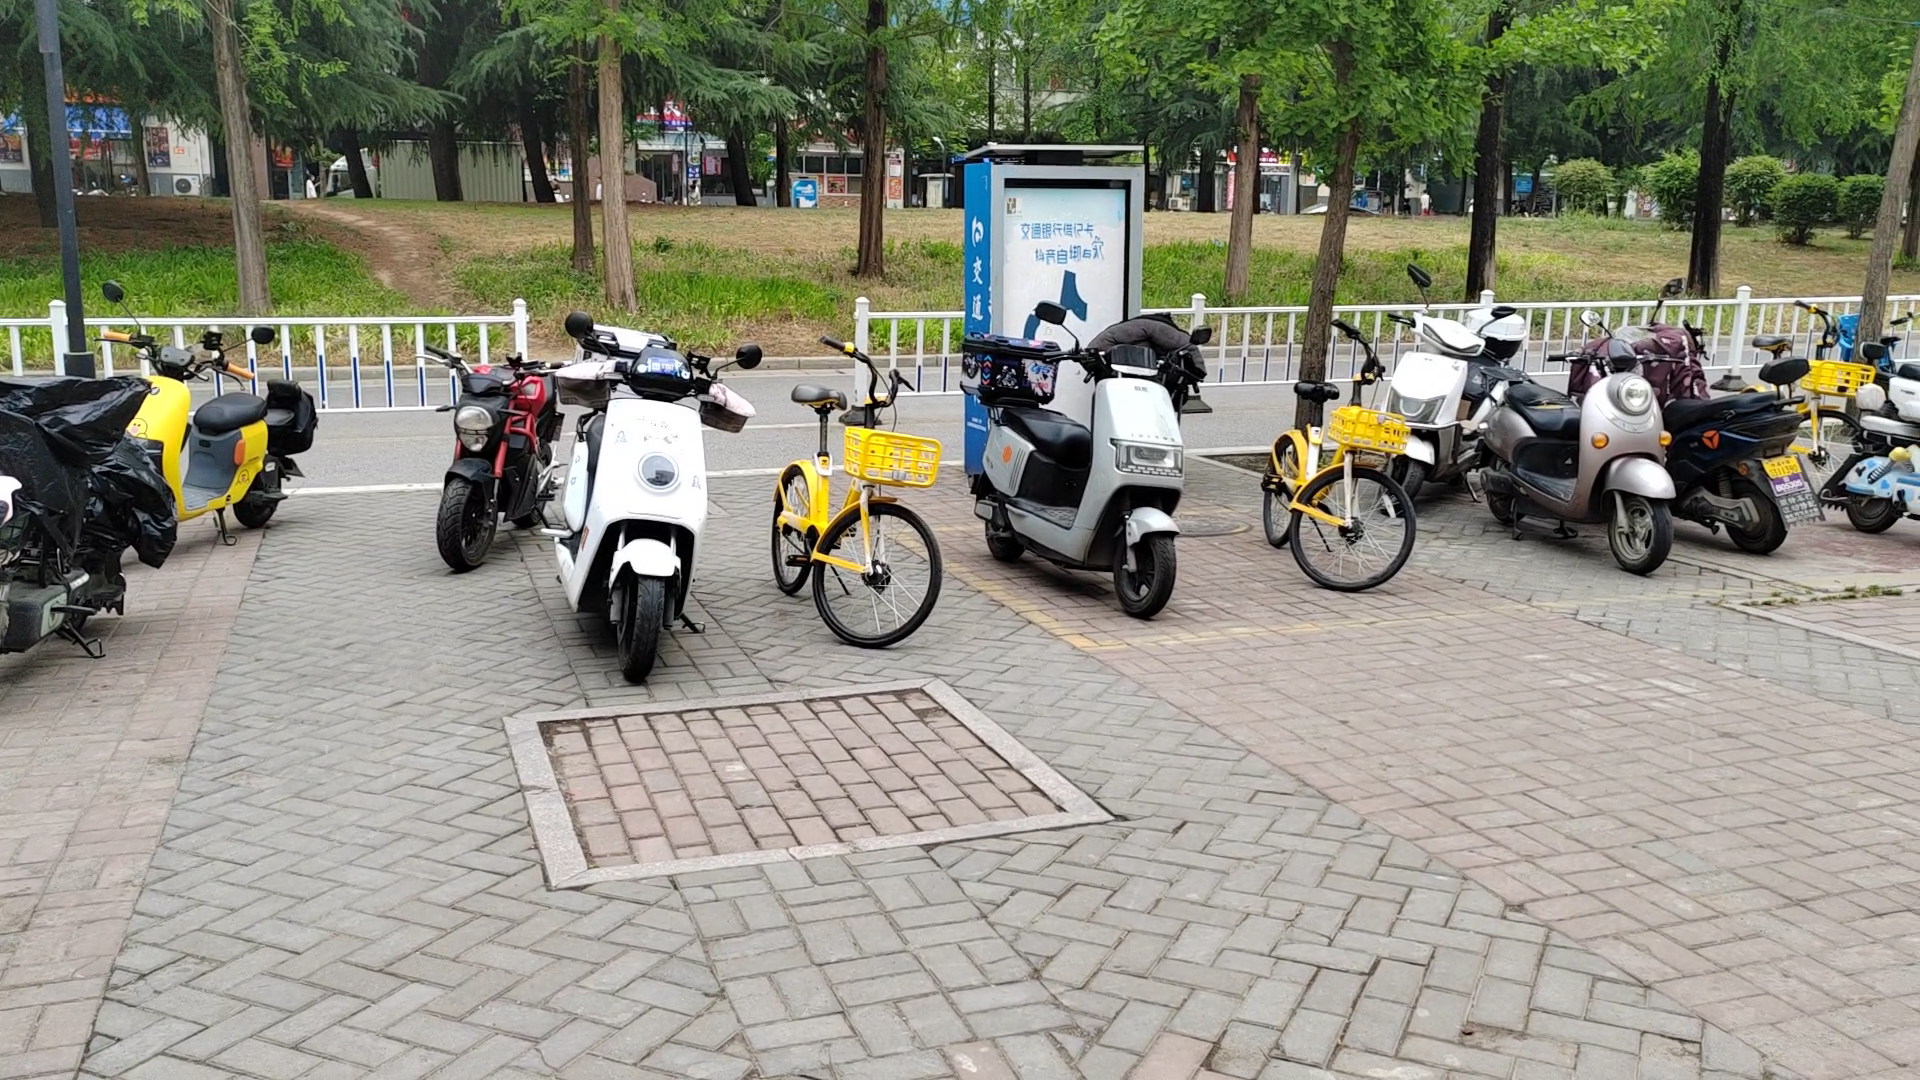others: (957, 319, 1203, 626), (531, 299, 698, 673), (96, 289, 311, 556), (3, 352, 158, 678), (1586, 301, 1776, 553), (1491, 334, 1660, 597), (1393, 272, 1530, 520), (436, 338, 551, 550)
shared_bike_meituan: (771, 316, 928, 687), (1246, 353, 1418, 676), (1721, 284, 1861, 477)
